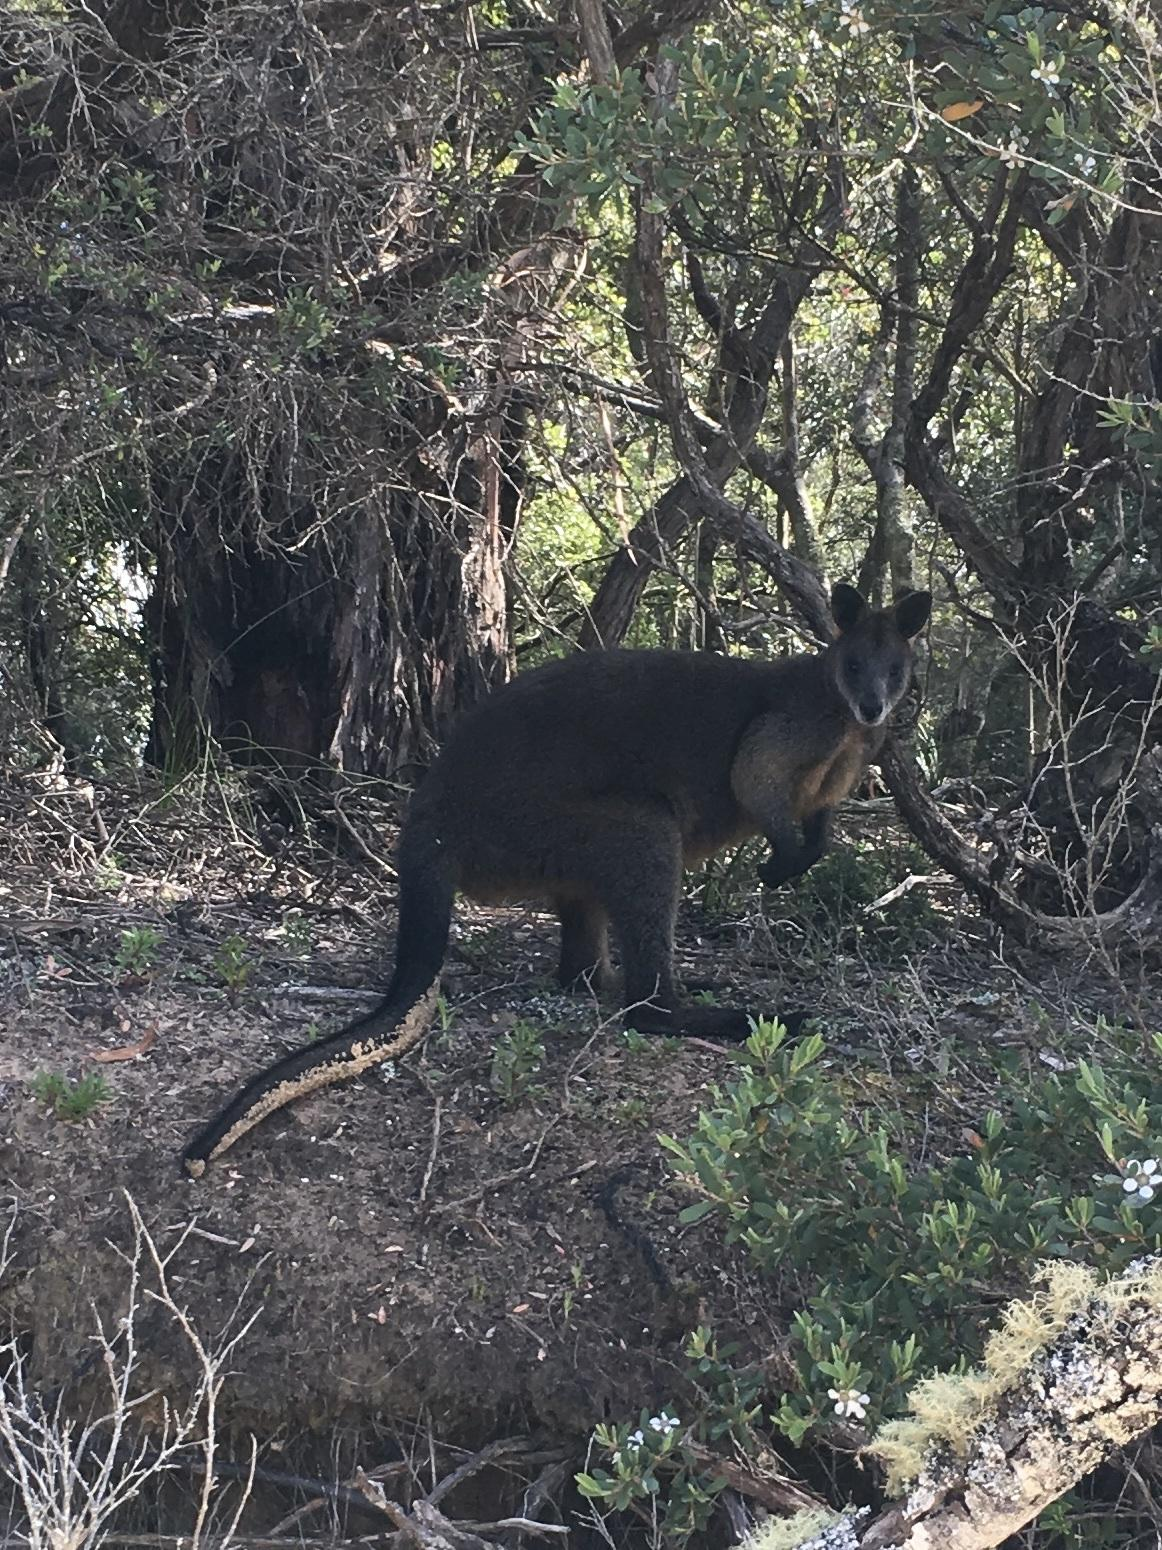Swamp wallaby: (170, 579, 942, 1196)
